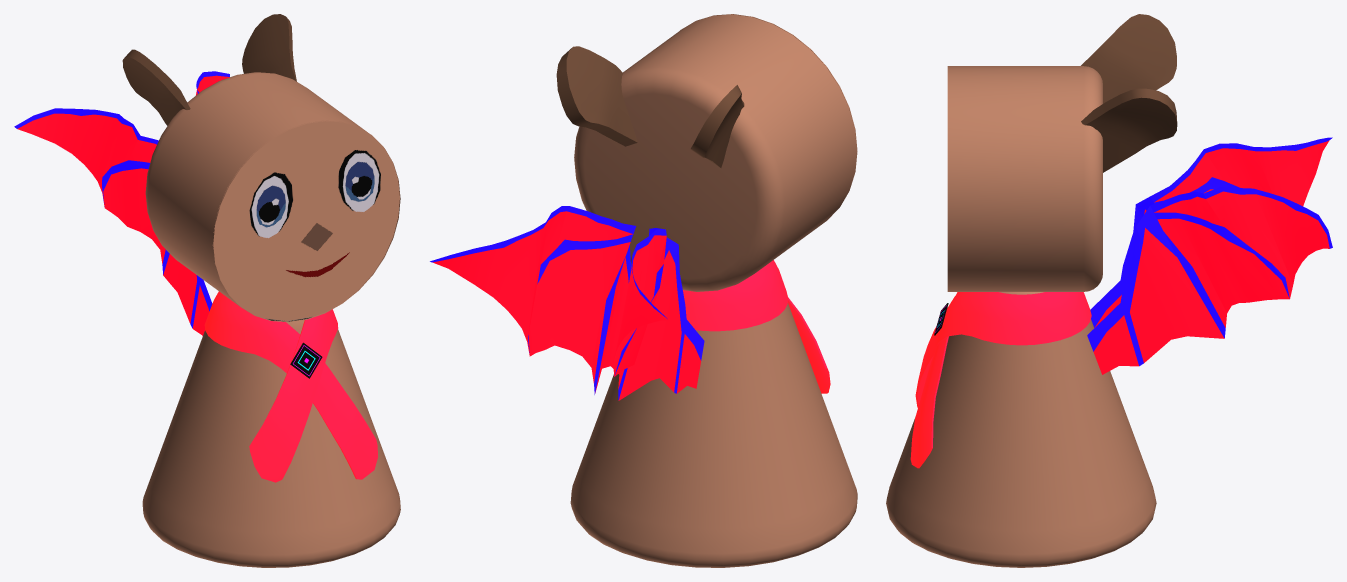
Rendered from man.glb.
3 renders of one model, left to right at view 1: azimuth 30°, elevation 25°; view 2: azimuth 150°, elevation 25°; view 3: azimuth 270°, elevation 25°, orthographic. The views are drawn at different scales.
Visible parts, largest first — view 1: sarir_primitive0, sarir_primitive4, sarir_primitive5, sarir_primitive2, sarir_primitive1, sarir_primitive3, sarir_primitive6; view 2: sarir_primitive0, sarir_primitive2, sarir_primitive1, sarir_primitive5, sarir_primitive3; view 3: sarir_primitive0, sarir_primitive2, sarir_primitive1, sarir_primitive5, sarir_primitive3.
Boxes of the visible parts, bbox=[...] form: sarir_primitive0: bbox=[142, 72, 400, 567]; sarir_primitive4: bbox=[212, 120, 399, 321]; sarir_primitive5: bbox=[204, 291, 377, 482]; sarir_primitive2: bbox=[17, 75, 229, 335]; sarir_primitive1: bbox=[122, 14, 296, 125]; sarir_primitive3: bbox=[14, 71, 229, 328]; sarir_primitive6: bbox=[290, 342, 322, 378]; sarir_primitive0: bbox=[570, 14, 857, 567]; sarir_primitive2: bbox=[432, 211, 700, 400]; sarir_primitive1: bbox=[556, 46, 744, 167]; sarir_primitive5: bbox=[683, 260, 830, 393]; sarir_primitive3: bbox=[430, 206, 704, 399]; sarir_primitive0: bbox=[886, 66, 1156, 567]; sarir_primitive2: bbox=[1093, 140, 1329, 374]; sarir_primitive1: bbox=[1081, 14, 1177, 172]; sarir_primitive5: bbox=[910, 292, 1091, 468]; sarir_primitive3: bbox=[1087, 137, 1332, 366].
Size of the model in its own units: 0.8967 by 1.69 by 1.48.
Materials: 10 (1 with a texture image).
